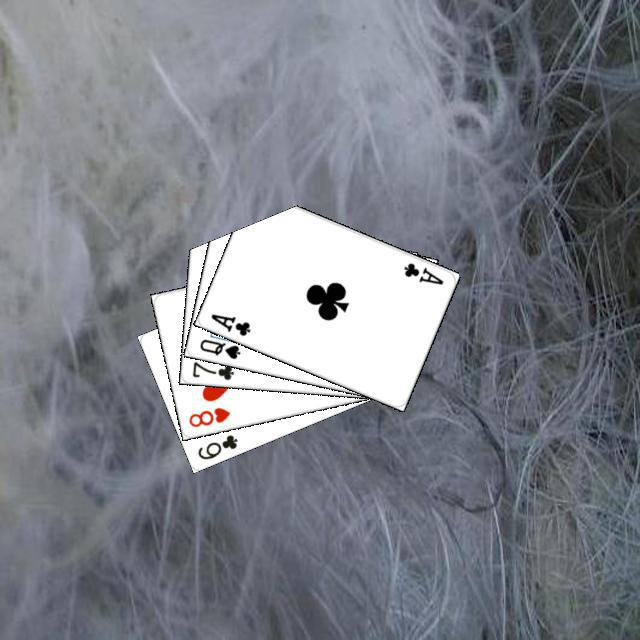6c: (193, 430, 239, 461)
7c: (187, 357, 236, 381)
8h: (184, 402, 232, 429)
Ac: (206, 309, 252, 338), (399, 258, 445, 287)
Qs: (195, 334, 242, 361)
